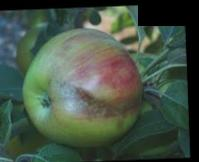rotten apple: (20, 27, 148, 147)
